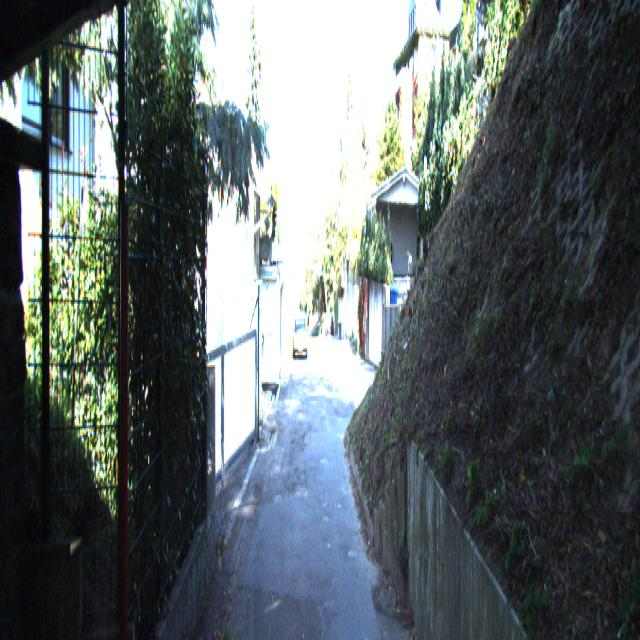Car: (292, 314, 308, 360)
